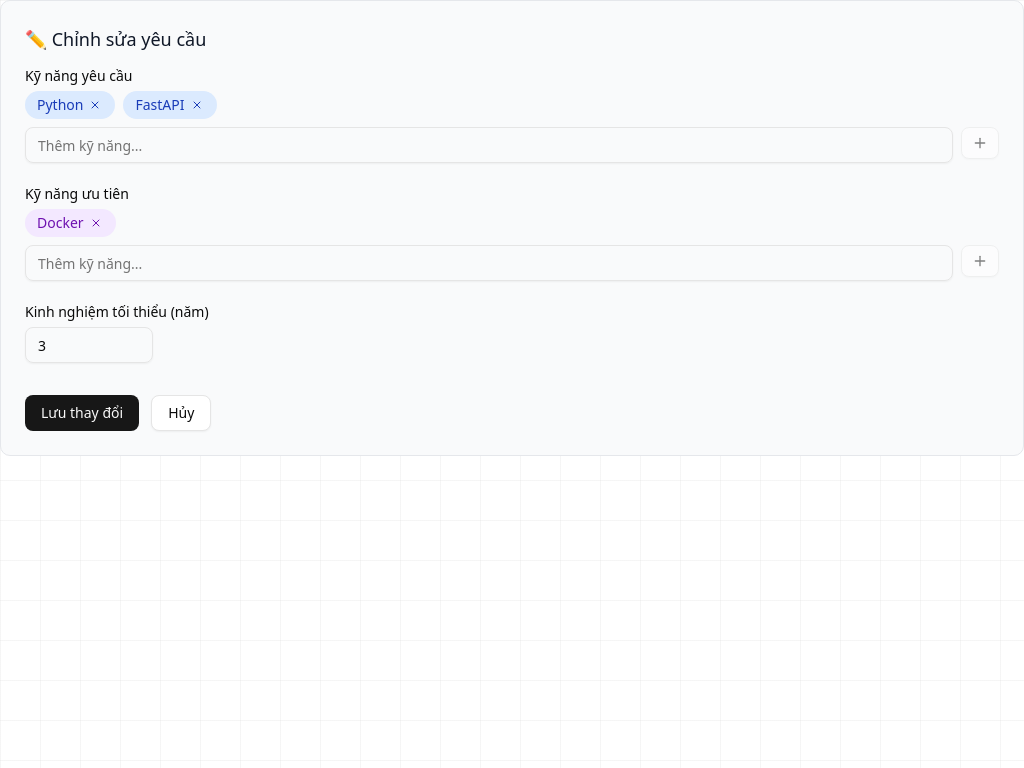
Test: EditParsedRequirements › shows error message when save fails
Click the button "Lưu thay đổi": (82, 413) [25,395,139,431]
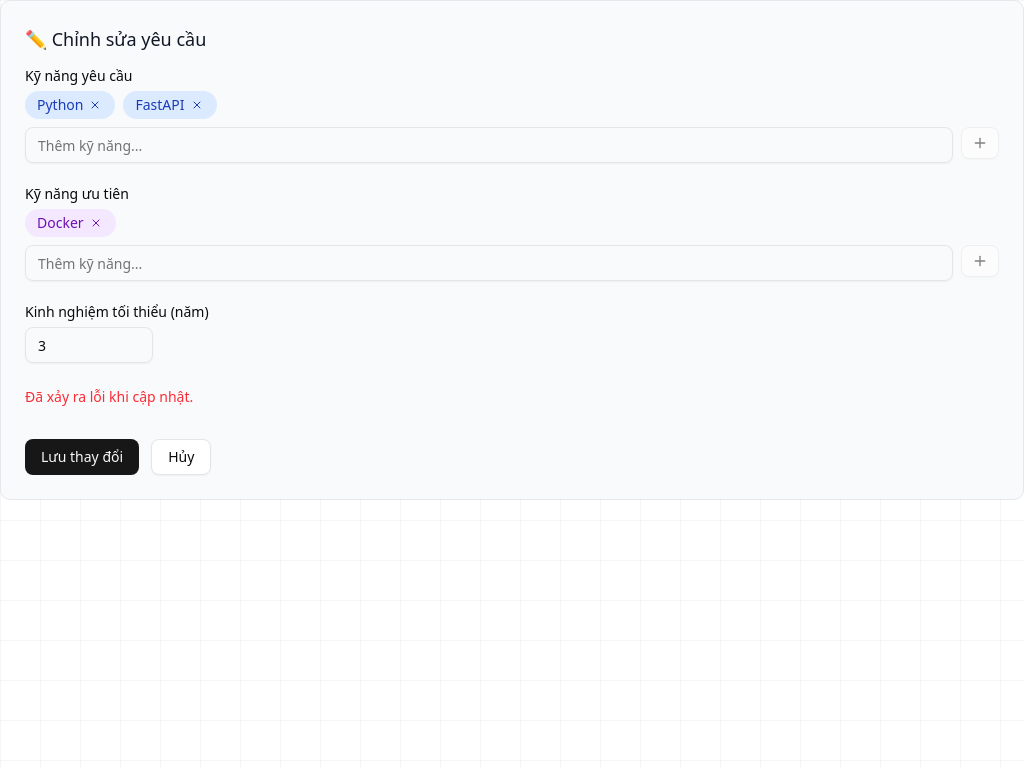
expect the text "Đã xảy ra lỗi khi cập nhật." is shown: met, box [25,387,193,406]
